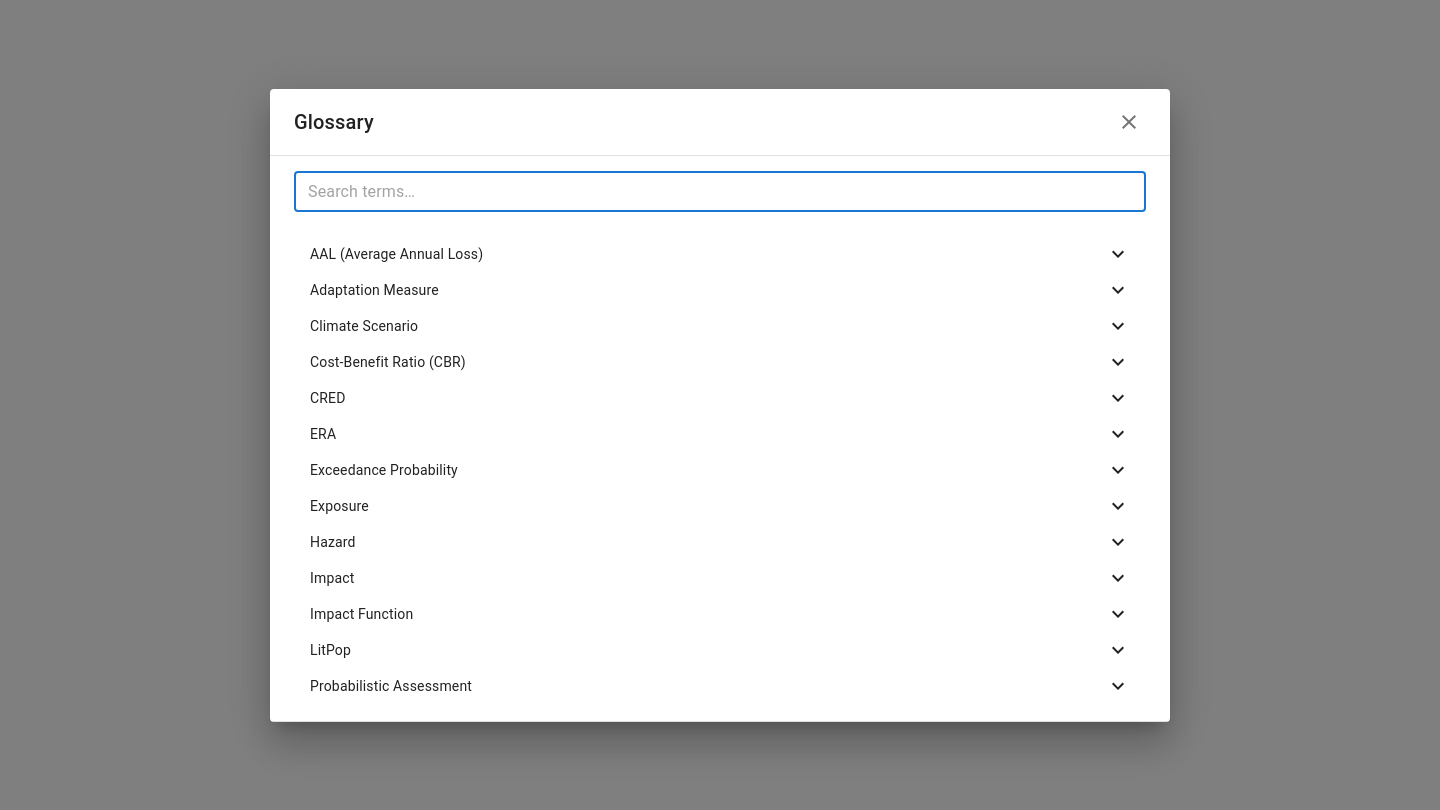
it: GlossaryDrawer › shows a no-results message when the query matches nothing
Type "zzznomatchxyz" into the field with placeholder "Search terms…" at (720, 192), box [294,172,1146,212]
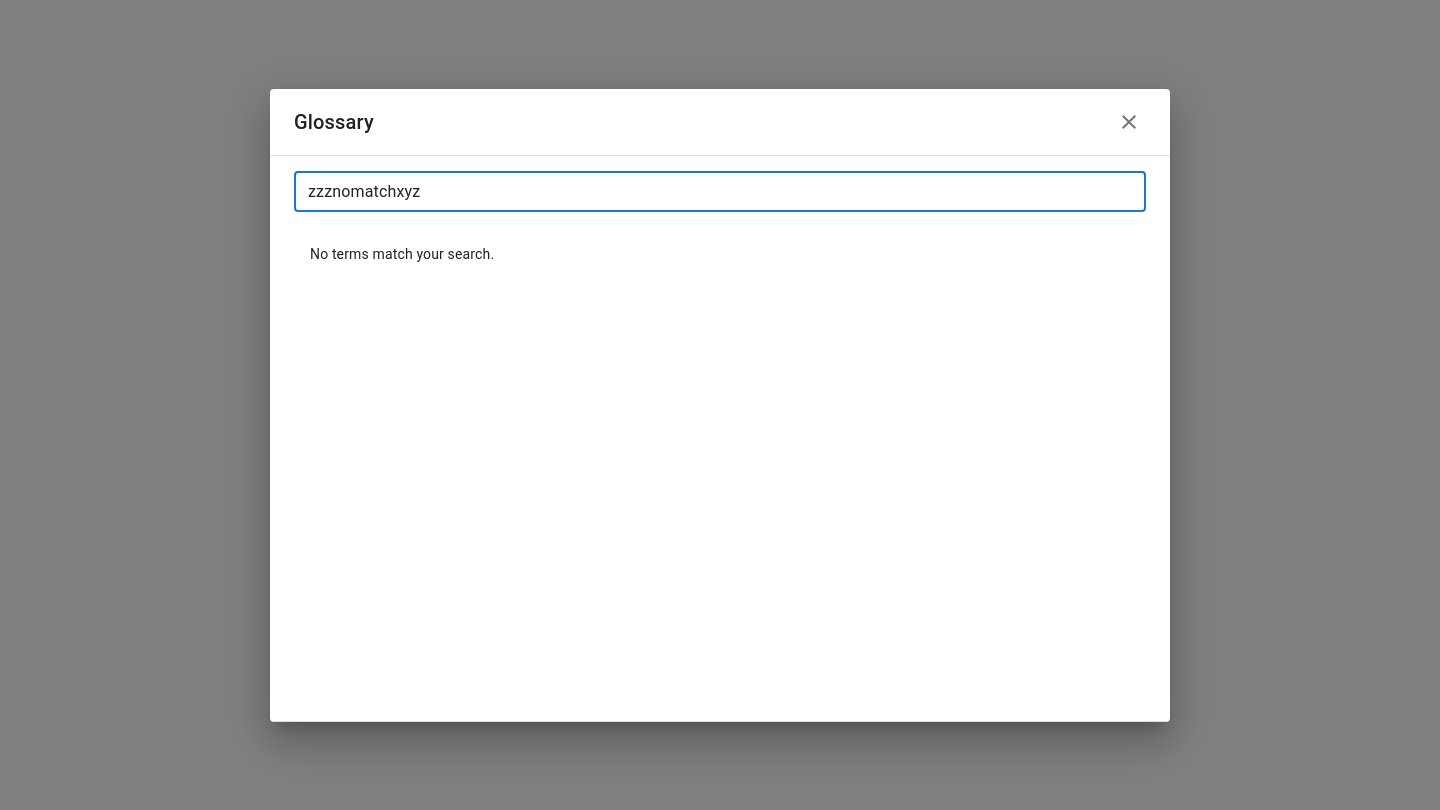
expect the text "No terms match your search." is shown: met, box [310,246,494,262]
